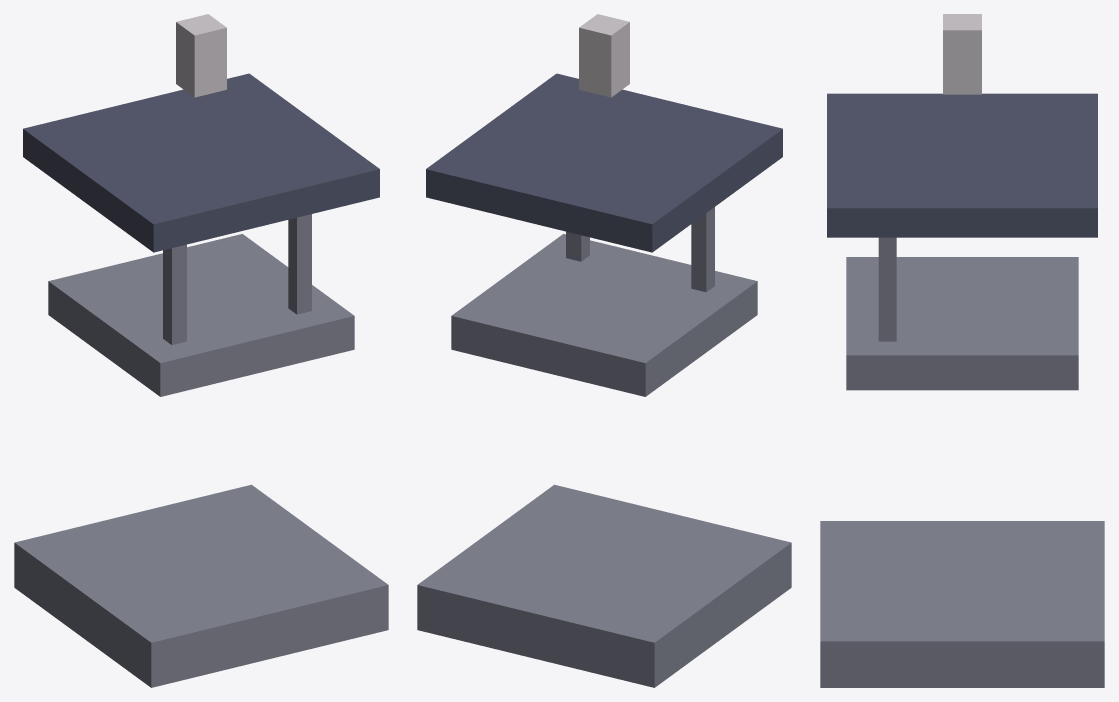
The model's file is moonfall_ritual_lantern_lod1.glb.
3 views of the same model, side by side, from view 1: azimuth 30°, elevation 25°; view 2: azimuth 150°, elevation 25°; view 3: azimuth 270°, elevation 25° (orthographic). The views are drawn at different scales.
Parts seen in each view (by area): view 1: moonfall_ritual_lantern_000, moonfall_ritual_lantern_002, moonfall_ritual_lantern_001, moonfall_ritual_lantern_003, moonfall_ritual_lantern_005, moonfall_ritual_lantern_004; view 2: moonfall_ritual_lantern_000, moonfall_ritual_lantern_002, moonfall_ritual_lantern_001, moonfall_ritual_lantern_003, moonfall_ritual_lantern_004, moonfall_ritual_lantern_005; view 3: moonfall_ritual_lantern_000, moonfall_ritual_lantern_002, moonfall_ritual_lantern_001, moonfall_ritual_lantern_003, moonfall_ritual_lantern_005.
Boxes of the visible parts, x1,y1,x2,y2 form: moonfall_ritual_lantern_000: [14, 484, 388, 687]; moonfall_ritual_lantern_002: [23, 73, 379, 252]; moonfall_ritual_lantern_001: [48, 234, 354, 396]; moonfall_ritual_lantern_003: [176, 14, 226, 97]; moonfall_ritual_lantern_005: [288, 214, 311, 314]; moonfall_ritual_lantern_004: [163, 244, 186, 344]; moonfall_ritual_lantern_000: [417, 484, 791, 687]; moonfall_ritual_lantern_002: [426, 73, 782, 252]; moonfall_ritual_lantern_001: [451, 234, 757, 396]; moonfall_ritual_lantern_003: [579, 14, 629, 97]; moonfall_ritual_lantern_004: [691, 207, 714, 292]; moonfall_ritual_lantern_005: [566, 231, 589, 261]; moonfall_ritual_lantern_000: [820, 521, 1104, 687]; moonfall_ritual_lantern_002: [827, 93, 1097, 237]; moonfall_ritual_lantern_001: [846, 257, 1078, 390]; moonfall_ritual_lantern_003: [943, 14, 981, 94]; moonfall_ritual_lantern_005: [878, 237, 896, 341].
Size of the model in its own units: 2.2 by 5.18 by 2.2.
